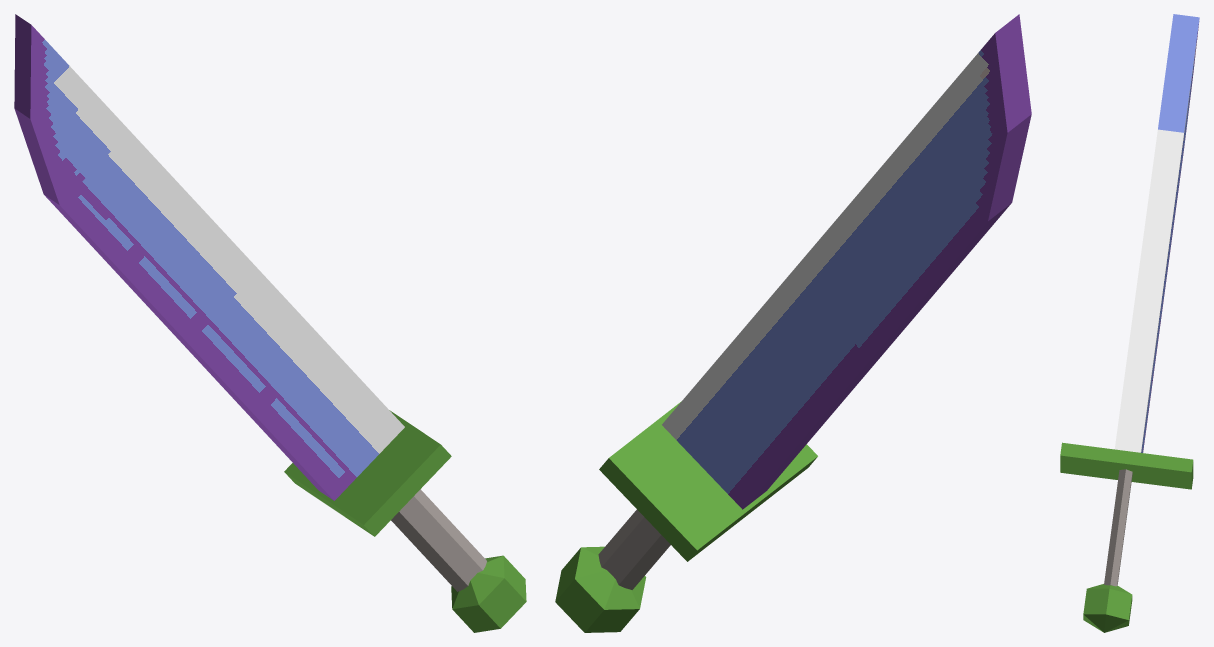
The model's file is PlasmaSwordLeftHand.gltf.
3 views of the same model, side by side, from view 1: azimuth 30°, elevation 25°; view 2: azimuth 150°, elevation 25°; view 3: azimuth 270°, elevation 25° (orthographic). The views are drawn at different scales.
Visible parts, largest first — view 1: Blade, WristGuard, Handle, CounterWeight; view 2: Blade, WristGuard, CounterWeight, Handle; view 3: Blade, WristGuard, CounterWeight, Handle.
Boxes of the visible parts, x1,y1,x2,y2 form: Blade: (14,14,404,500); WristGuard: (284,410,451,536); Handle: (391,489,486,591); CounterWeight: (451,555,526,632); Blade: (662,14,1031,509); WristGuard: (599,401,817,561); CounterWeight: (555,546,646,632); Handle: (598,509,670,589); Blade: (1115,14,1199,452); WristGuard: (1060,442,1193,489); CounterWeight: (1083,584,1132,632); Handle: (1104,469,1132,586).
Bounding box in the file's own units: 0.8735 × 1.24 × 0.3287.
1 material, 1 textured.
